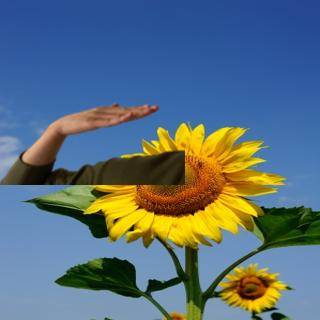WAIT: (52, 96, 161, 138)
